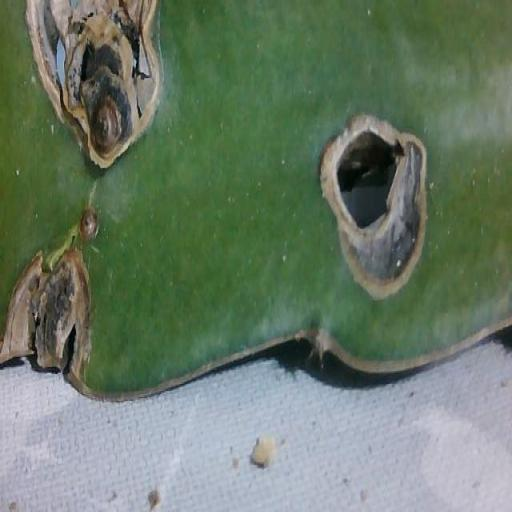stemcanker: (76, 206, 101, 246)
